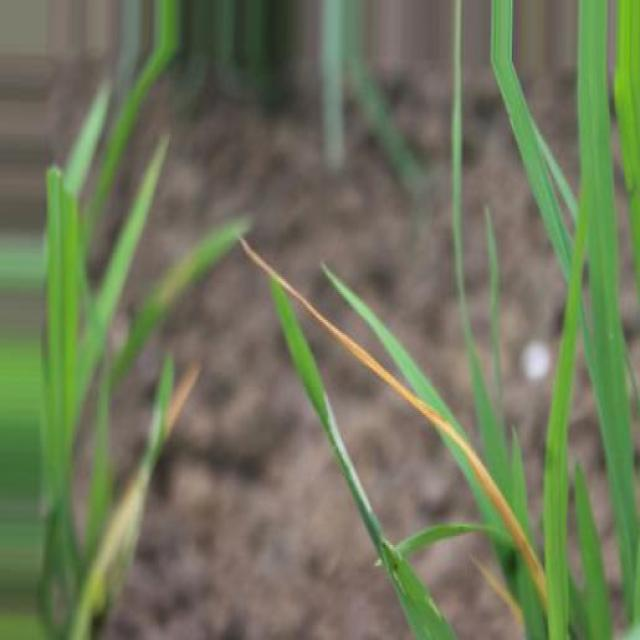Rice Tungro: (240, 240, 545, 605)
